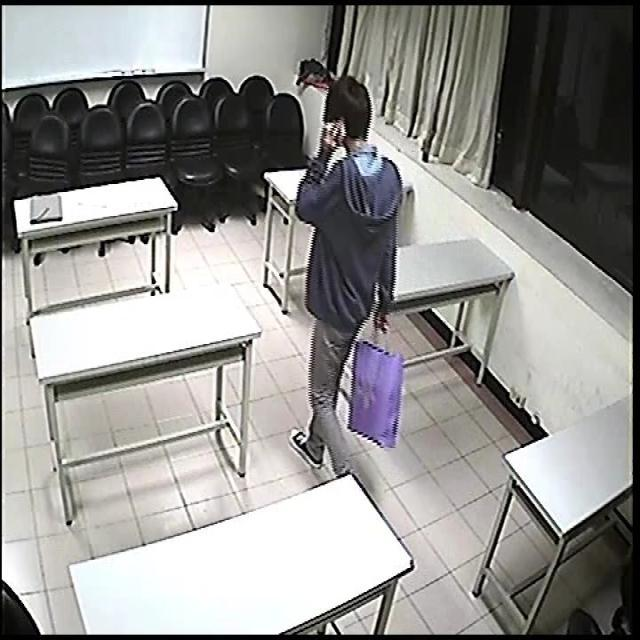abandoned-object: (341, 327, 415, 454), (294, 45, 339, 90)
